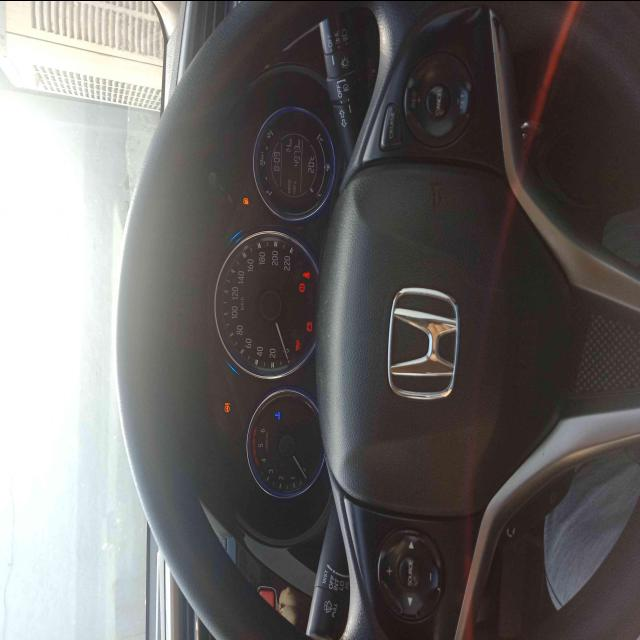Braking System Issue: (299, 282, 305, 292)
Charging System Issue: (306, 320, 312, 330)
Low Engine Oil Warning Light: (296, 338, 300, 350)
